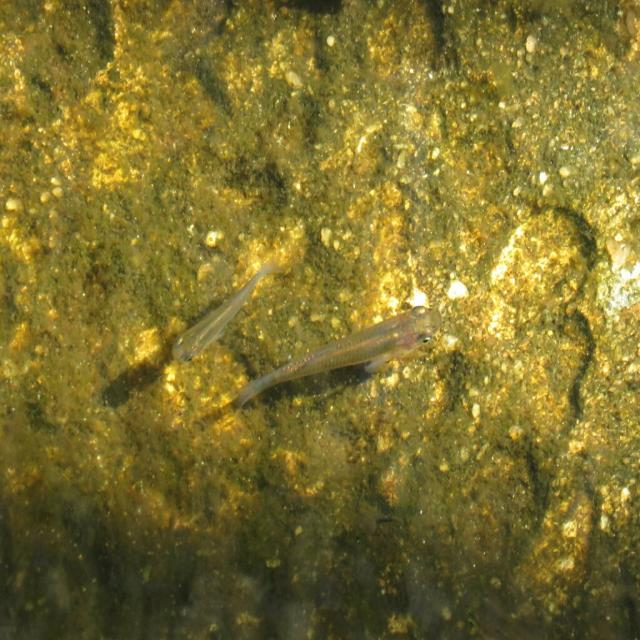Sivrisinek Baligi: (196, 302, 442, 429), (167, 254, 276, 374)
